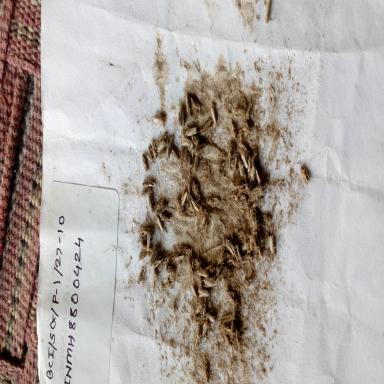pbw: (262, 2, 274, 24), (300, 162, 311, 186), (226, 238, 238, 259), (198, 208, 209, 230), (251, 185, 265, 201), (152, 113, 166, 129), (156, 212, 166, 234), (149, 138, 158, 162), (222, 310, 236, 325), (201, 118, 212, 137), (137, 224, 154, 236), (146, 190, 156, 210), (207, 196, 221, 210), (175, 241, 189, 255), (190, 96, 202, 112), (210, 103, 218, 127), (137, 265, 146, 286), (186, 126, 200, 139), (242, 276, 254, 291), (215, 260, 225, 278), (169, 147, 179, 165), (218, 324, 233, 336), (267, 234, 276, 254), (248, 164, 258, 182), (250, 217, 260, 235), (225, 286, 236, 302), (166, 134, 174, 156), (221, 331, 232, 347), (191, 197, 201, 214), (205, 310, 218, 323), (236, 227, 249, 240), (202, 359, 210, 380), (136, 234, 148, 248), (235, 103, 246, 118), (149, 248, 159, 264), (186, 258, 194, 278), (218, 264, 228, 280), (138, 249, 150, 262), (196, 268, 209, 280), (194, 312, 206, 325), (227, 138, 233, 164), (233, 178, 244, 192), (205, 276, 216, 290), (144, 230, 151, 252), (185, 179, 192, 201), (240, 149, 248, 168), (151, 268, 159, 287), (200, 296, 207, 317), (141, 154, 149, 172), (156, 139, 165, 155), (190, 180, 199, 196), (184, 148, 192, 166), (235, 244, 243, 262), (202, 320, 211, 336), (140, 186, 153, 197), (157, 130, 168, 143), (159, 256, 170, 269), (178, 103, 185, 123), (257, 241, 264, 261), (231, 296, 238, 316), (238, 140, 248, 154), (186, 92, 192, 115), (195, 273, 203, 290), (249, 237, 257, 254), (232, 152, 240, 169), (178, 146, 185, 165), (195, 327, 202, 346), (195, 142, 206, 154), (165, 265, 176, 277), (242, 252, 253, 264), (154, 255, 164, 268), (238, 126, 246, 142), (180, 192, 188, 208), (242, 240, 251, 254), (246, 102, 253, 120), (218, 245, 225, 263), (194, 303, 204, 315), (192, 257, 202, 269), (196, 288, 208, 298), (251, 146, 257, 166), (142, 179, 154, 189), (242, 124, 254, 134), (193, 155, 200, 172), (190, 281, 197, 298), (226, 255, 235, 268), (156, 197, 165, 210), (231, 119, 237, 138), (252, 200, 262, 211), (159, 213, 170, 223), (255, 168, 261, 186), (160, 202, 169, 214), (262, 213, 271, 225), (206, 263, 216, 273), (244, 184, 251, 198), (176, 196, 182, 212), (234, 188, 240, 204), (192, 134, 200, 146), (147, 146, 153, 162), (247, 153, 252, 171), (174, 254, 184, 263), (230, 320, 234, 342), (239, 192, 246, 204), (219, 159, 226, 171), (189, 245, 194, 257)
